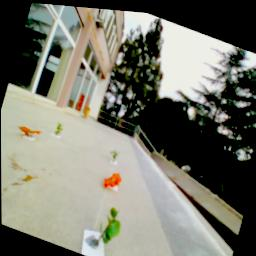herb: (96, 202, 126, 247), (53, 120, 66, 139), (108, 146, 122, 162)
wild: (101, 167, 125, 193), (17, 123, 44, 144)
